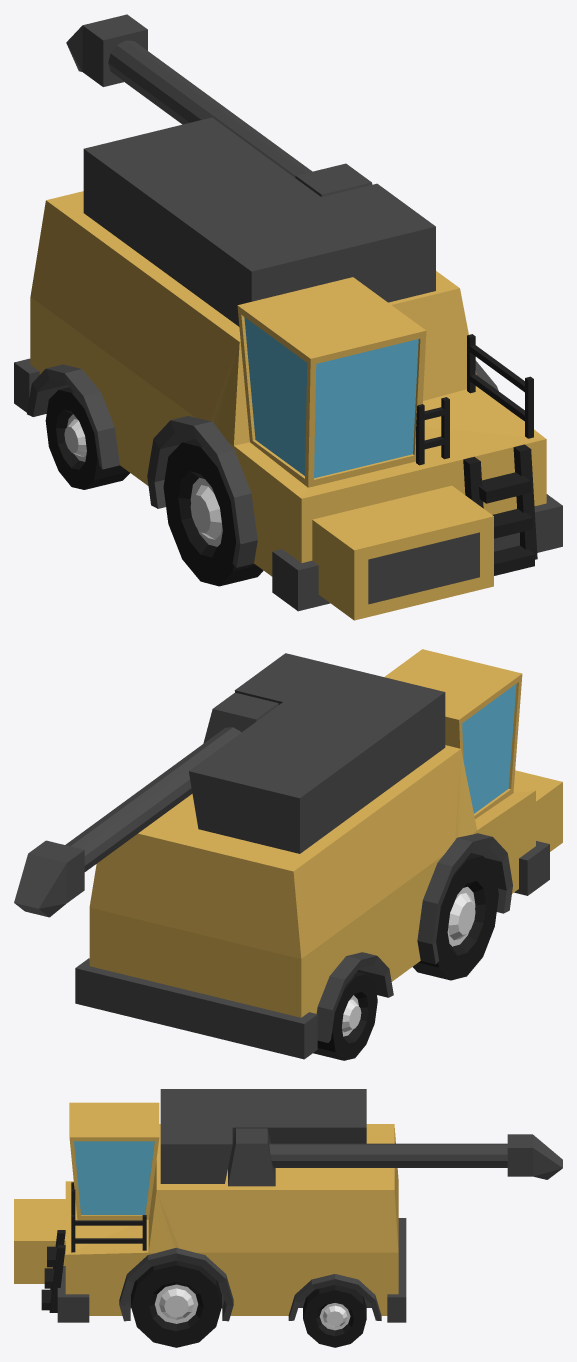
The model's file is colheitadeira.glb.
3 renders of one model, top to bottom at view 1: azimuth 30°, elevation 25°; view 2: azimuth 150°, elevation 25°; view 3: azimuth 270°, elevation 25°, orthographic. The views are drawn at different scales.
Parts seen in each view (by area): view 1: colheitadeira-vehicle, poste-rigid, wheel_1-wheel, wheel_3-wheel; view 2: colheitadeira-vehicle, poste-rigid, wheel_1-wheel, wheel_3-wheel; view 3: colheitadeira-vehicle, poste-rigid, wheel_2-wheel, wheel_4-wheel.
Part boxes in pixels (left/top/right/bottom): colheitadeira-vehicle: left=14, top=117, right=562, bottom=620; poste-rigid: left=66, top=14, right=312, bottom=177; wheel_1-wheel: left=163, top=439, right=263, bottom=586; wheel_3-wheel: left=45, top=387, right=129, bottom=489; colheitadeira-vehicle: left=75, top=649, right=562, bottom=1059; poste-rigid: left=14, top=727, right=241, bottom=917; wheel_1-wheel: left=413, top=853, right=498, bottom=980; wheel_3-wheel: left=313, top=972, right=377, bottom=1060; colheitadeira-vehicle: left=14, top=1089, right=406, bottom=1322; poste-rigid: left=269, top=1134, right=562, bottom=1179; wheel_2-wheel: left=131, top=1260, right=221, bottom=1347; wheel_4-wheel: left=303, top=1285, right=366, bottom=1347.
Size of the model in its own units: 5 by 5.3 by 13.85.
